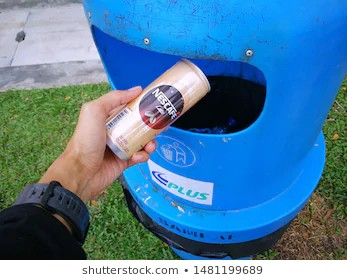nescafe-can: (103, 55, 210, 165)
